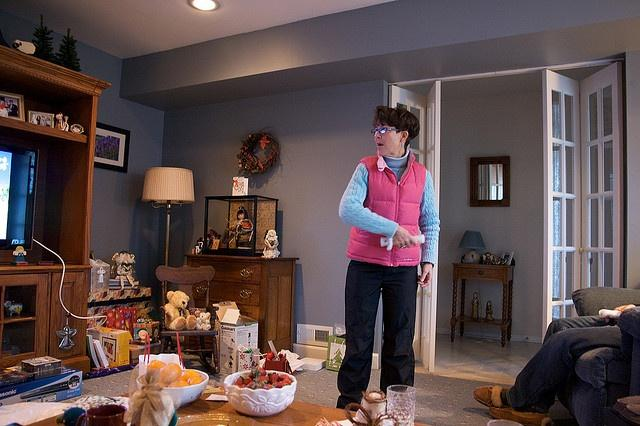AIO PC-Monitor-TV: (0, 142, 40, 250)
